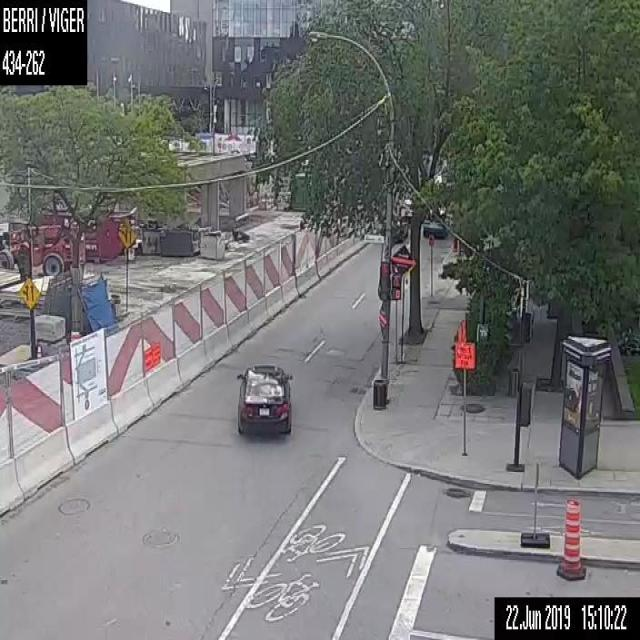construction: (450, 321, 475, 455), (556, 497, 584, 580), (69, 328, 80, 343)
vehicle: (236, 363, 291, 436), (422, 218, 447, 238)
